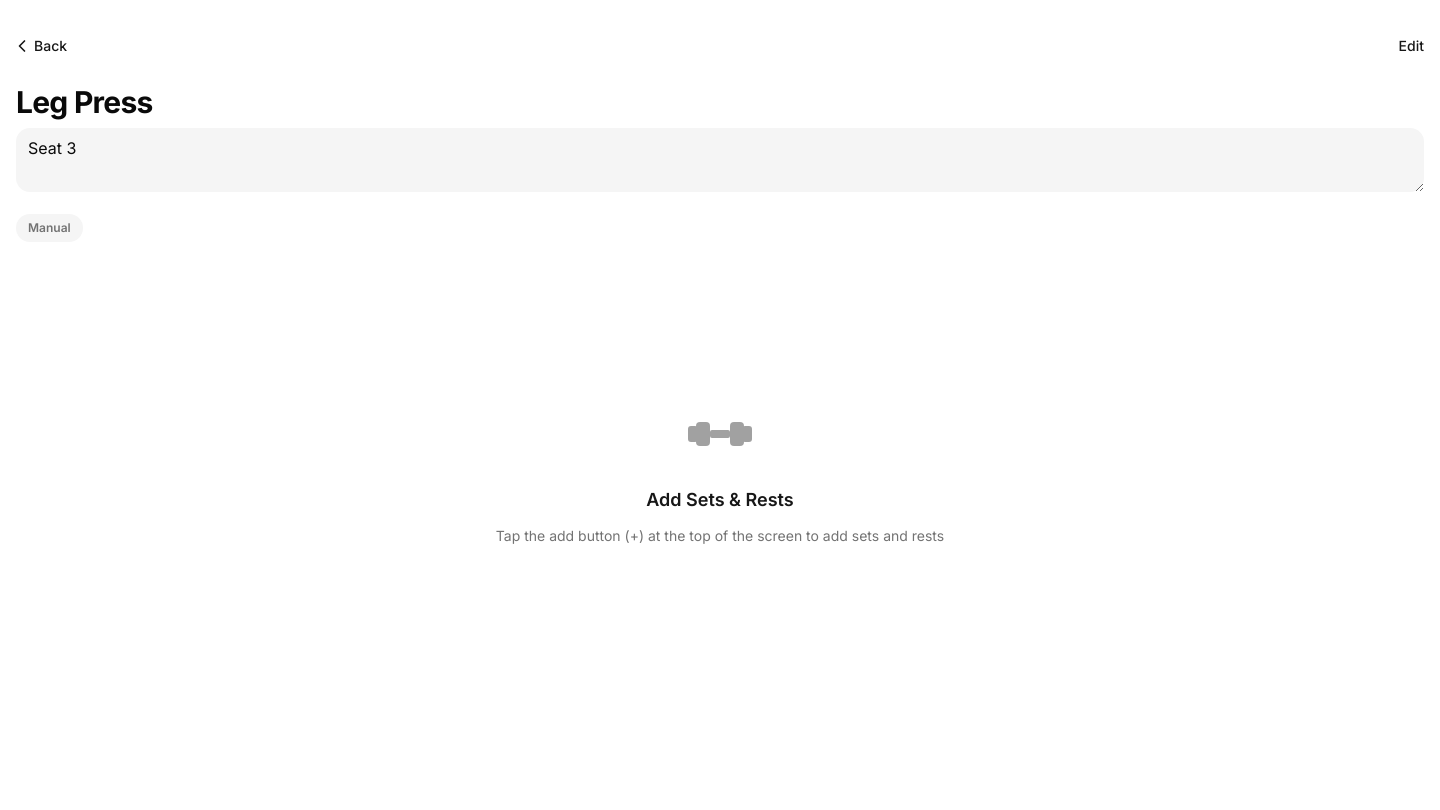
Test: program setup notes › puts the saved text back when the save fails
The image size is (1440, 810).
Replace the text in the text box named "Setup notes" with "Seat 9" at (720, 160), box [16,128,1424,192]
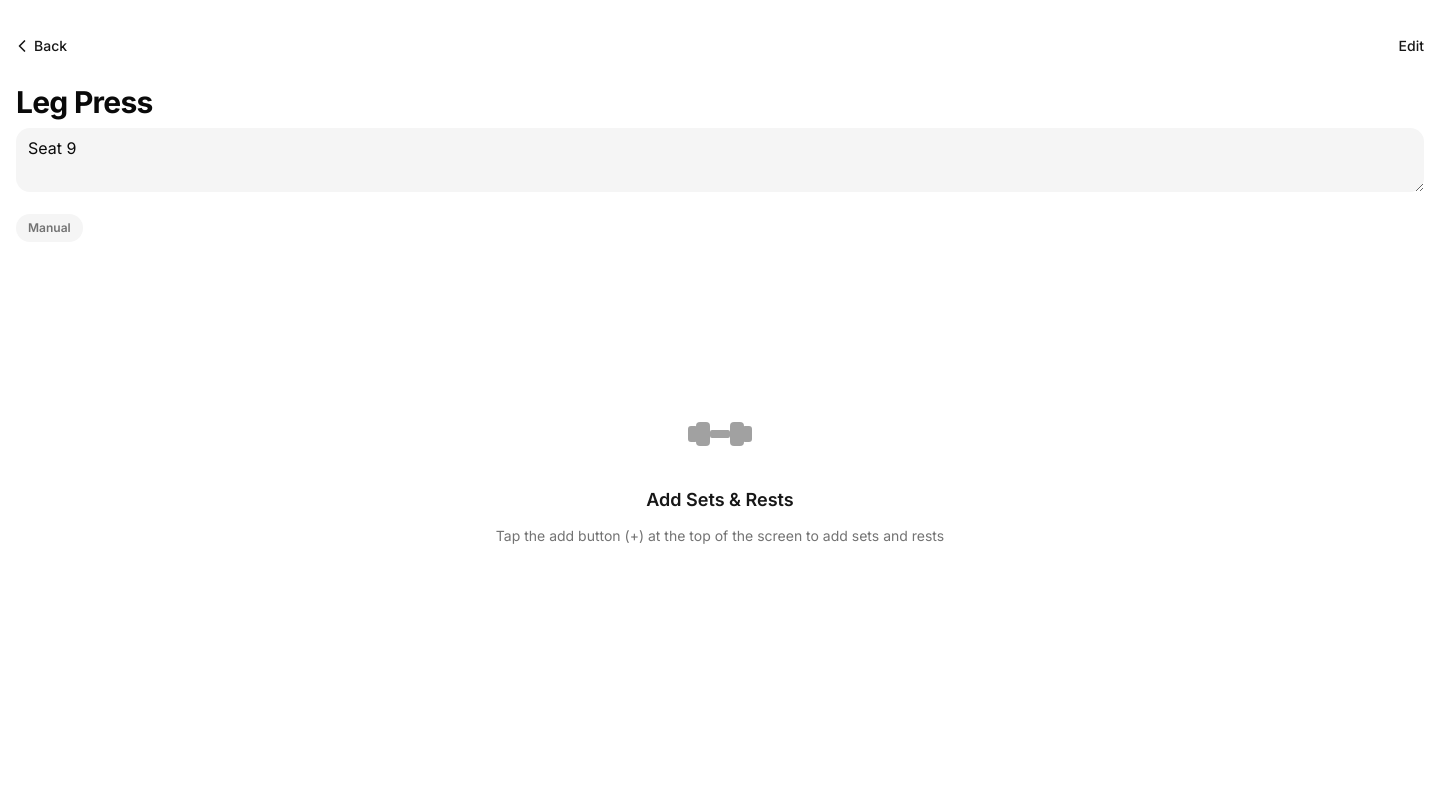
Leave the text box named "Setup notes", box [16,128,1424,192]
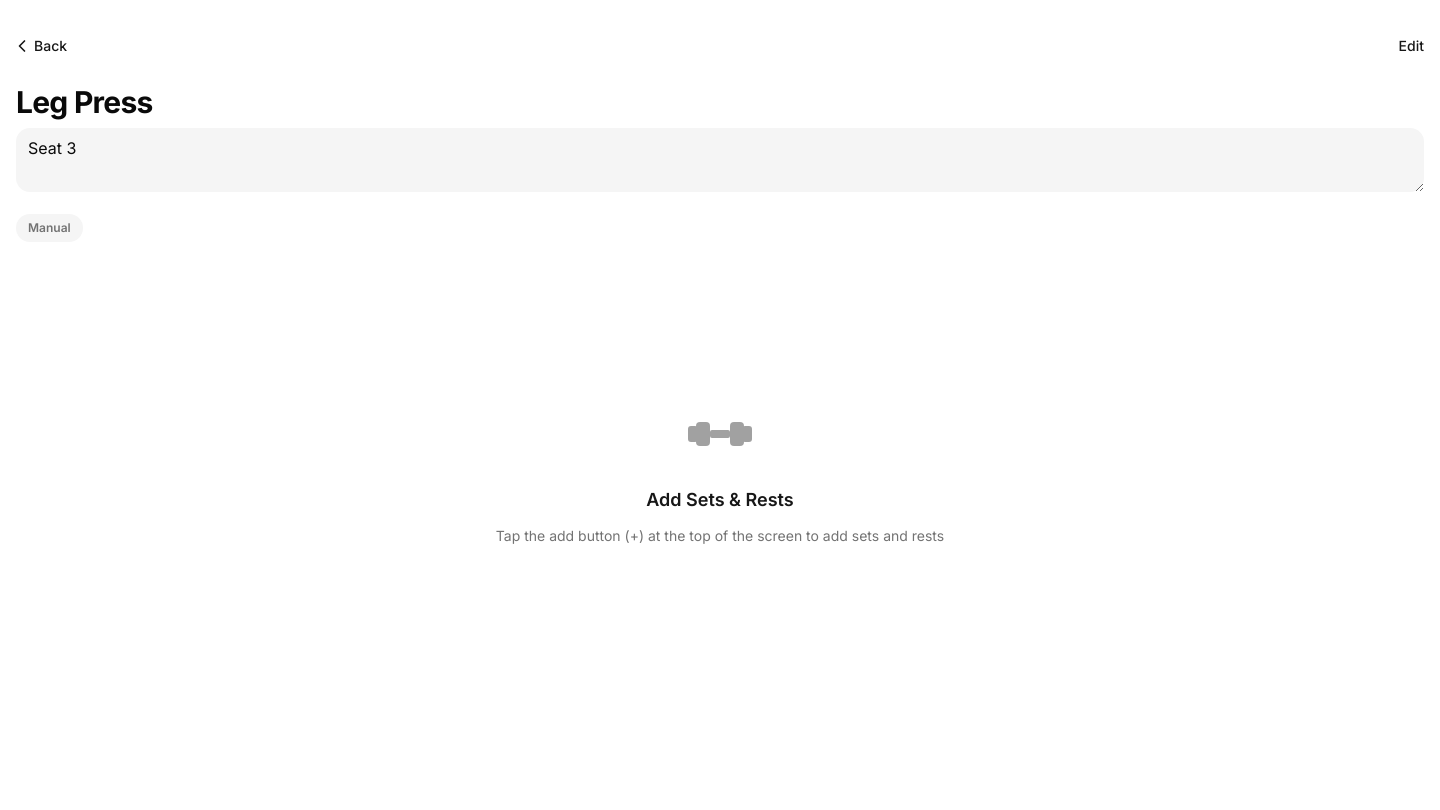
Expected: the text box named "Setup notes" holds "Seat 3", [16,128,1424,192]
